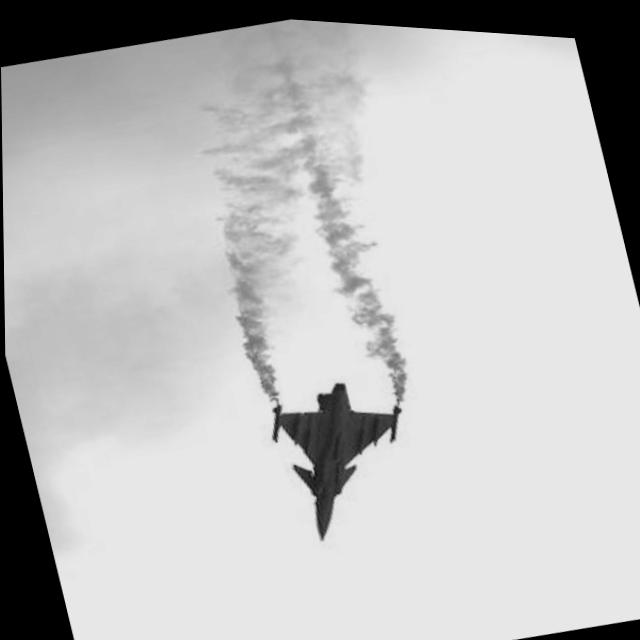aeroplane: (260, 359, 431, 549)
